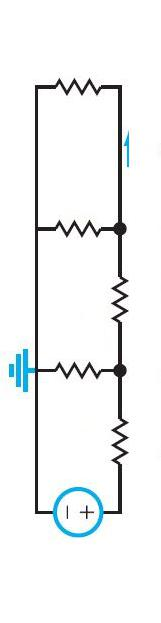resistor: (34, 60, 112, 108), (37, 204, 117, 242)
